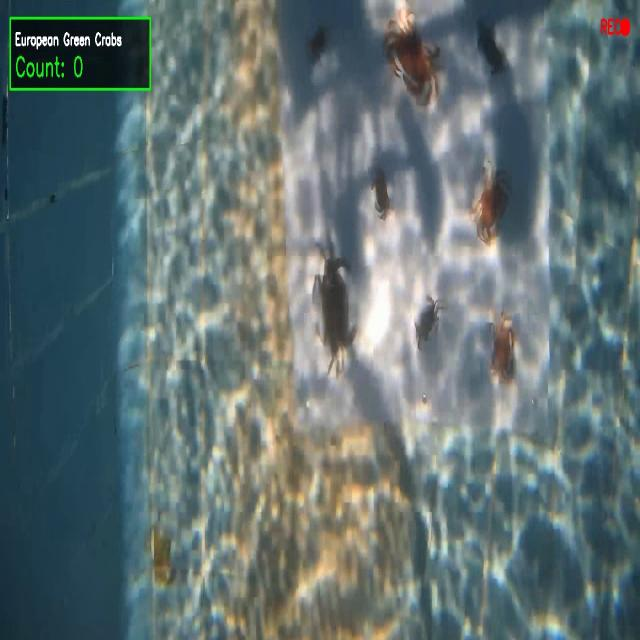European_Green_Crab: (305, 227, 365, 379), (406, 283, 452, 355), (473, 16, 513, 85)
